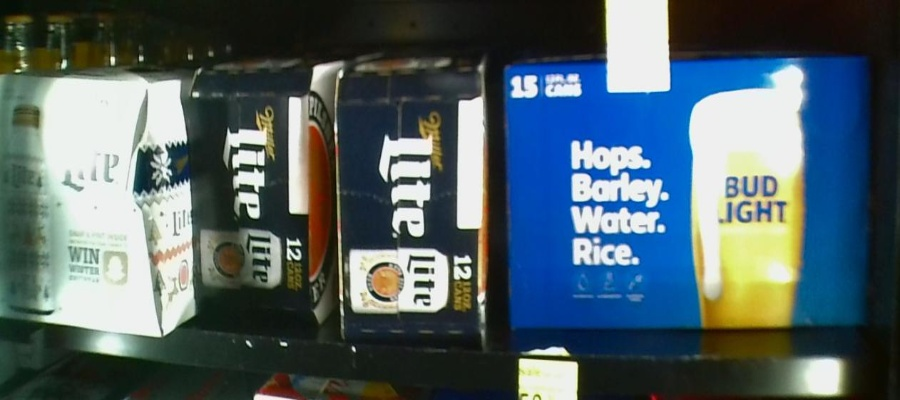bottle: (496, 56, 874, 329), (1, 71, 180, 335), (334, 57, 492, 348), (190, 57, 330, 327)
